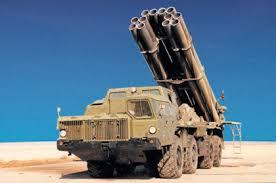MIL_SAM_TEL: (57, 6, 231, 177)
